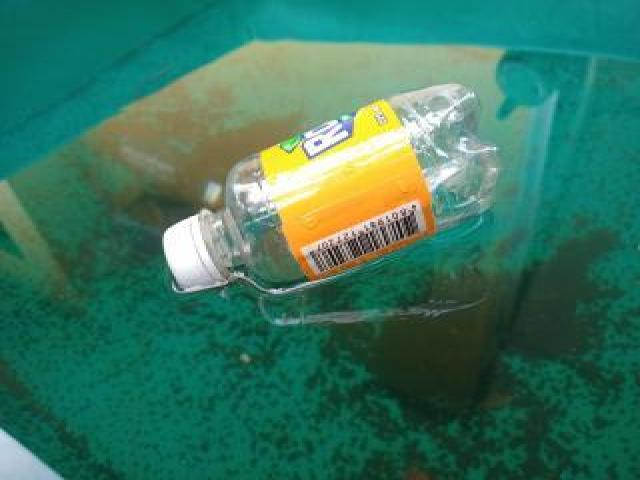Bottle: (152, 64, 507, 294)
